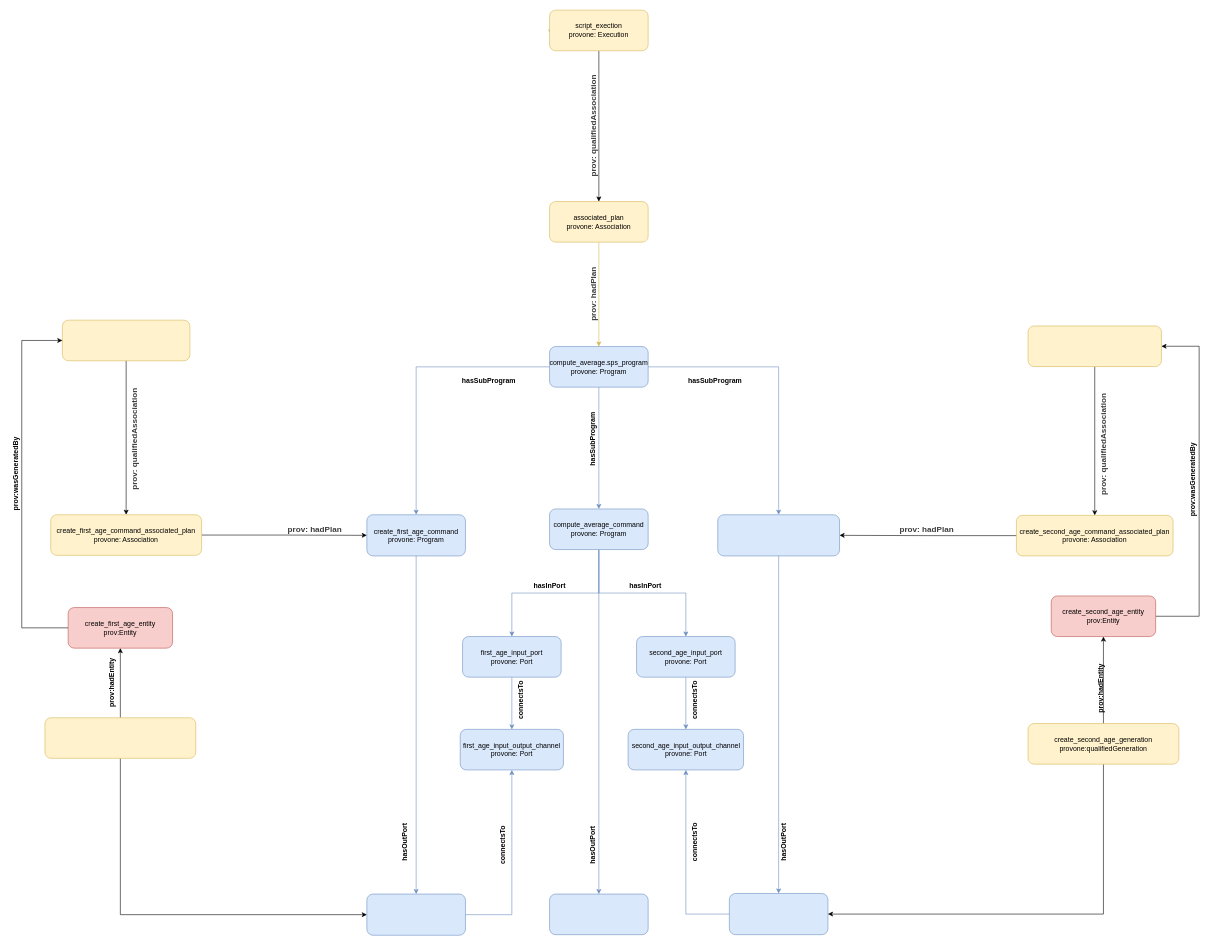
Some shapes in this 1214 by 945 pixel diagram are drawn without their labels. The shapes that lost their labels are listed below. From the top down, each one's centre as x and y in pixels, then its label:
At (x=126, y=340): "create_first_age_command_execution provone: Execution".
At (x=1094, y=346): "create_second_age_command_execution provone: Execution".
At (x=778, y=535): "create_second_age_command provone: Program".
At (x=120, y=737): "create_first_age_generation provone:qualifiedGeneration".
At (x=415, y=914): "first_age_output_port provone: Port".
At (x=598, y=914): "average_age_output_port provone: Port".
At (x=778, y=914): "second_age_output_port provone: Port".
